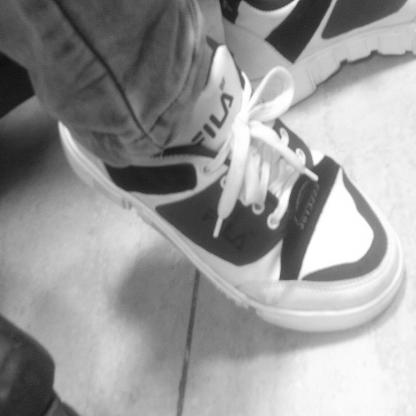ankle: (142, 148, 151, 159)
heel: (64, 130, 67, 136)
pinky: (322, 281, 330, 289)
right_foot: (58, 47, 406, 334)
toe: (376, 206, 381, 216)
